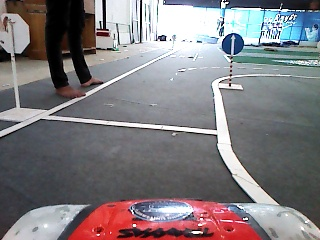straight: (220, 32, 246, 58)
